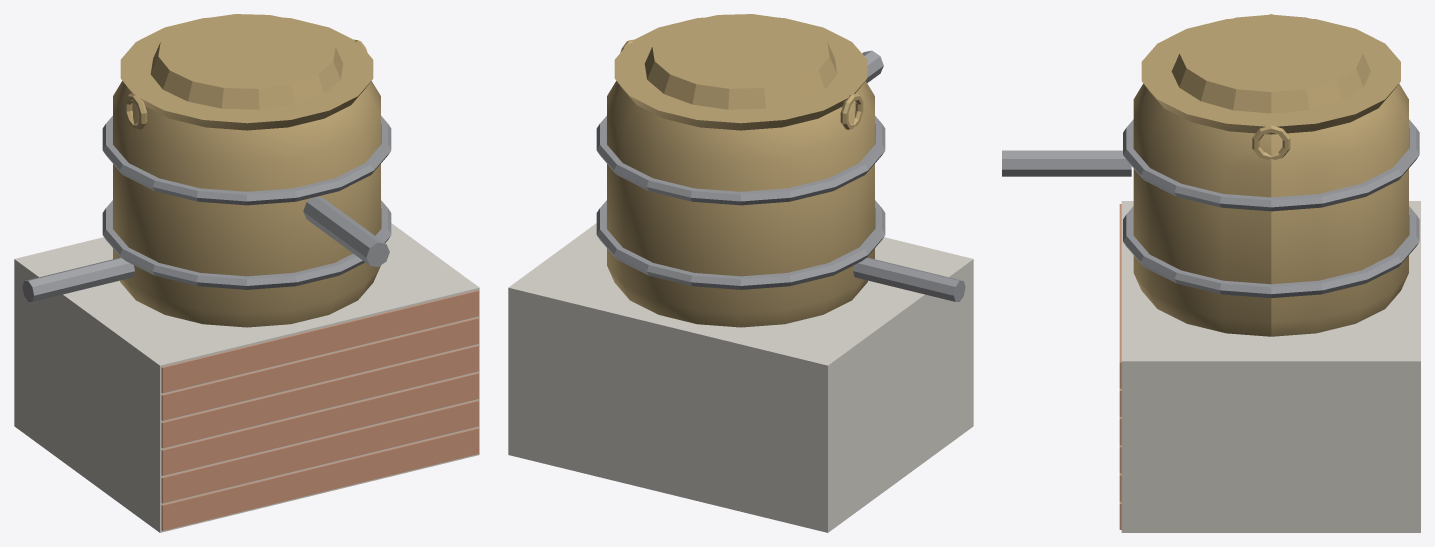
The model's file is roman-bathhouse-and-palaestra-boiler-tank-and-setting-f014bf01__37878.glb.
3 views of the same model, side by side, from view 1: azimuth 30°, elevation 25°; view 2: azimuth 150°, elevation 25°; view 3: azimuth 270°, elevation 25° (orthographic). The views are drawn at different scales.
Parts seen in each view (by area): view 1: boiler-tank-and-setting; view 2: boiler-tank-and-setting; view 3: boiler-tank-and-setting.
Boxes of the visible parts, x1,y1,x2,y2 form: boiler-tank-and-setting: (14, 14, 479, 532); boiler-tank-and-setting: (508, 14, 973, 532); boiler-tank-and-setting: (1002, 14, 1420, 532).
Size of the model in its own units: 2.25 by 2.21 by 2.1.
